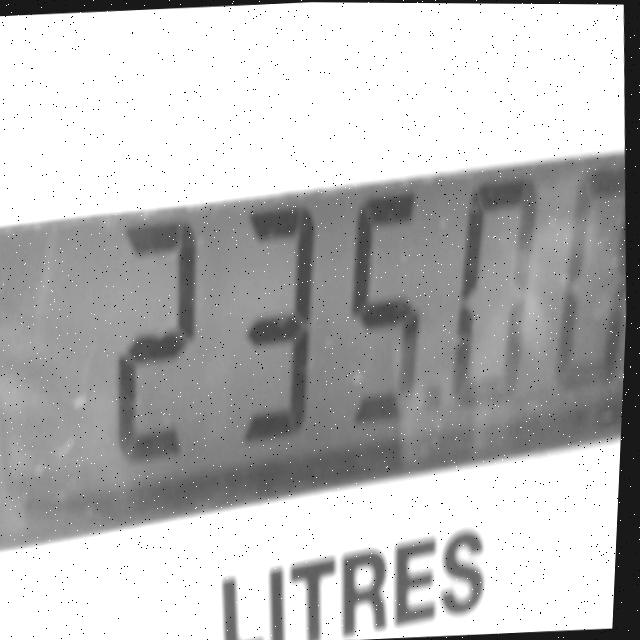.: (413, 370, 459, 449)
0: (444, 172, 554, 426)
2: (105, 219, 219, 472)
3: (234, 199, 330, 447)
5: (342, 198, 431, 424)
